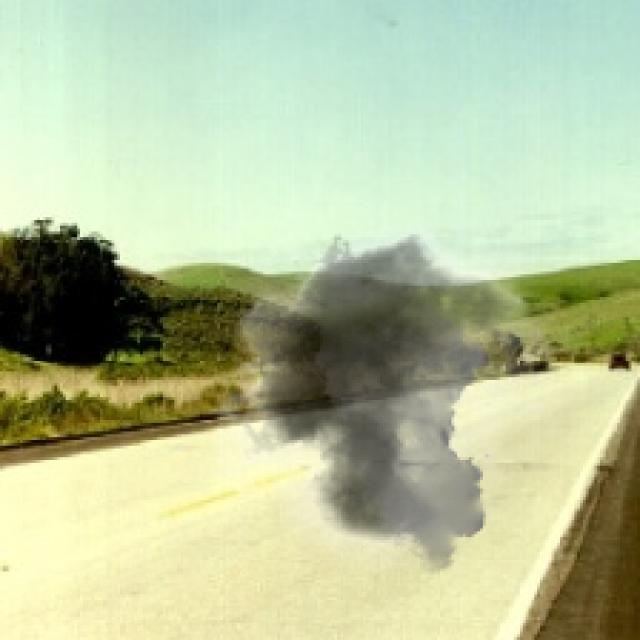smoke: (194, 203, 592, 574)
